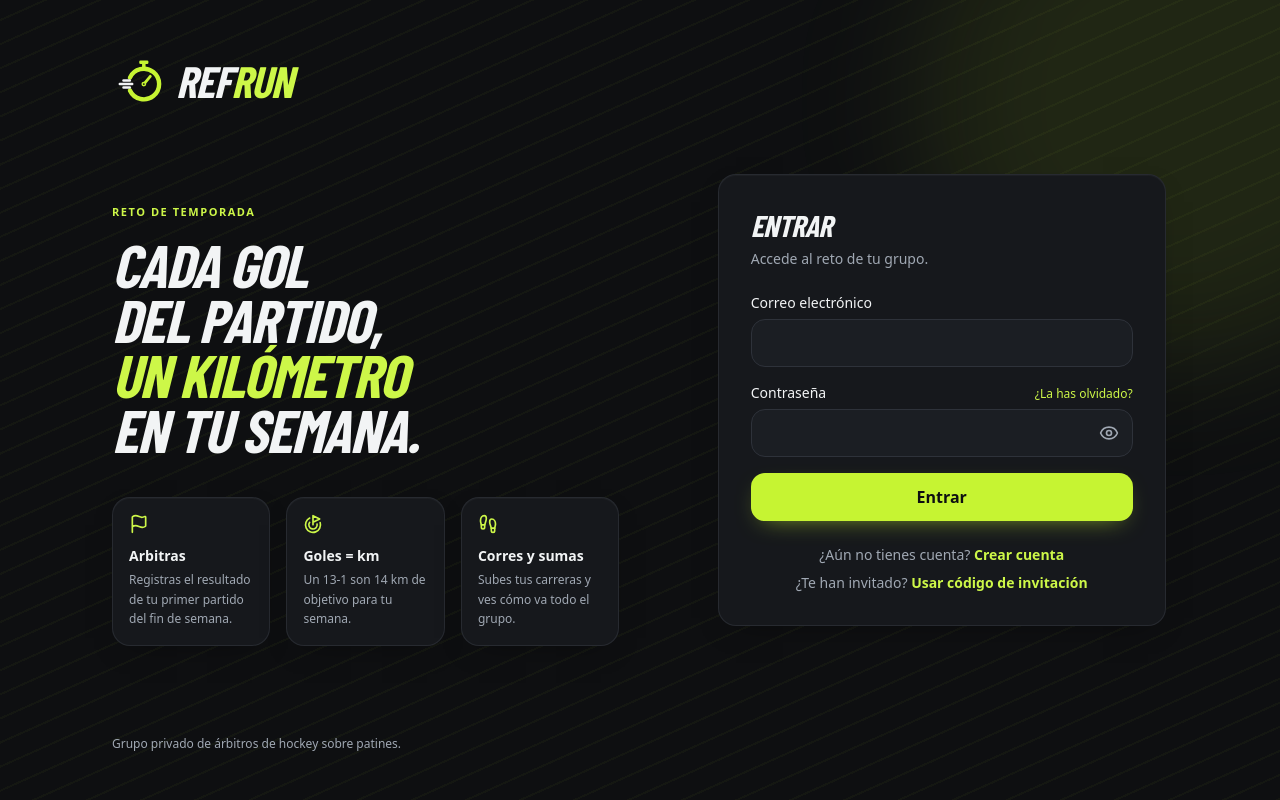
Test: autenticación › valida los campos antes de enviar
Step 1. Click the button "Entrar" → coordinates (942, 497), box [751,473,1133,521]
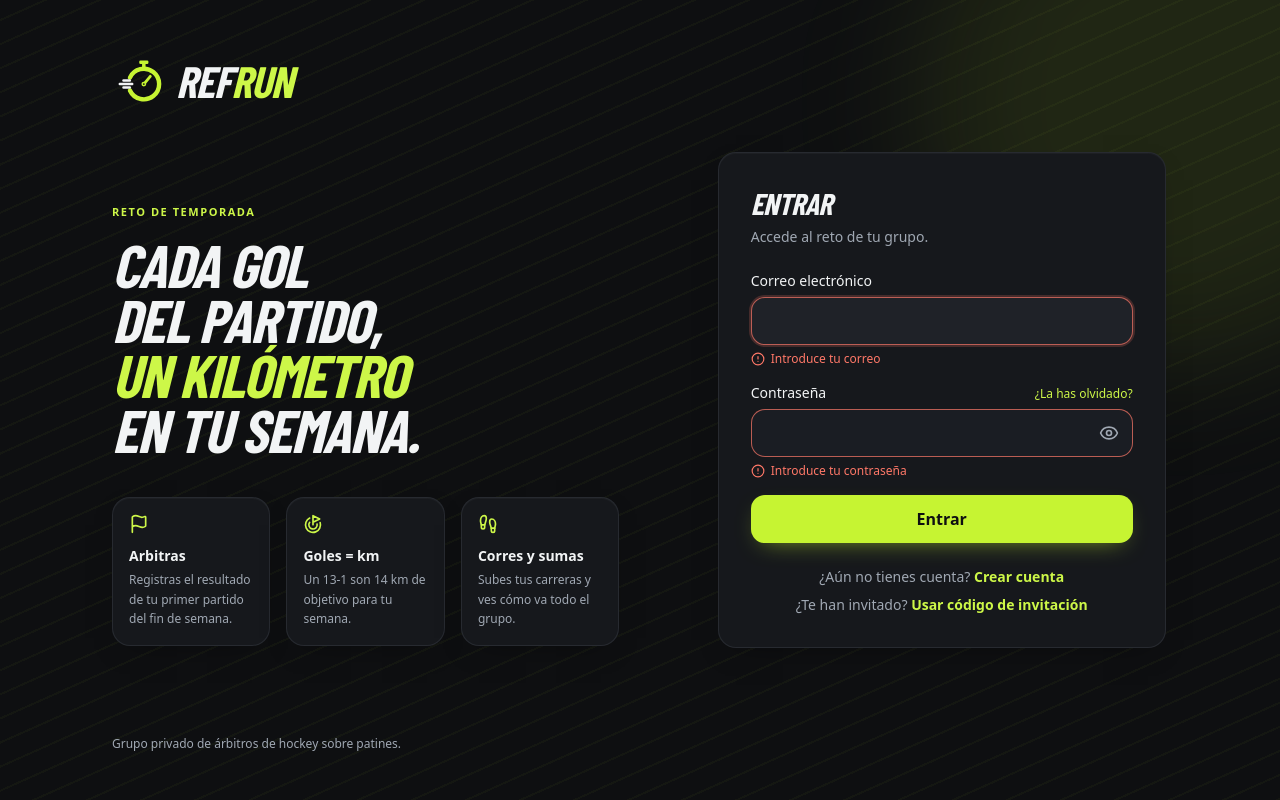
expect the text "Introduce tu correo" is shown: met, box [771,351,880,367]
expect the text "Introduce tu contraseña" is shown: met, box [771,463,907,479]
